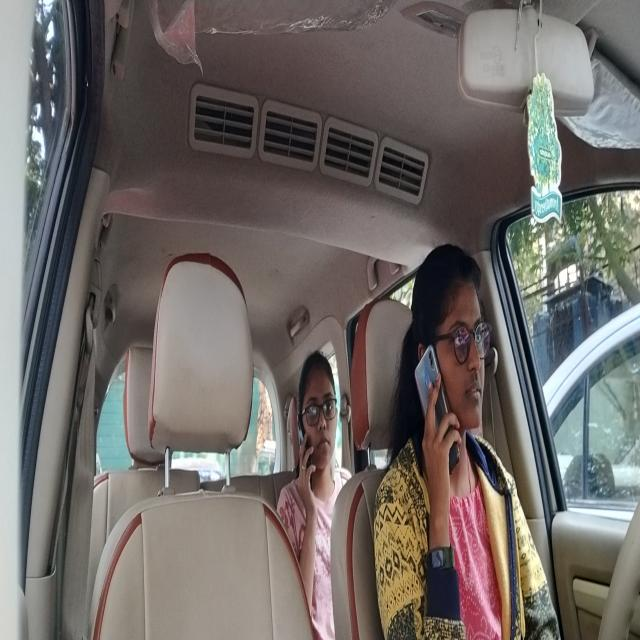mobile: (415, 345, 453, 469)
person: (412, 238, 489, 472), (297, 349, 340, 476)
